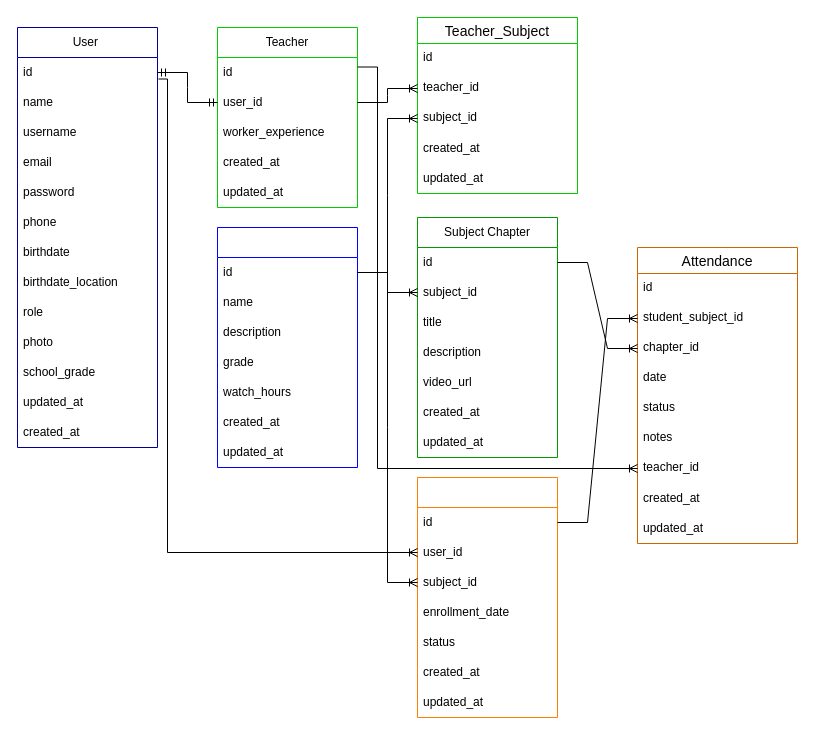
The diagram is 815 pixels wide and 735 high, and some of its shapes have lost their labels. Each missing label, with the box of its shape:
Student_Subject: (416, 476, 558, 718)
Subject: (216, 226, 358, 468)
